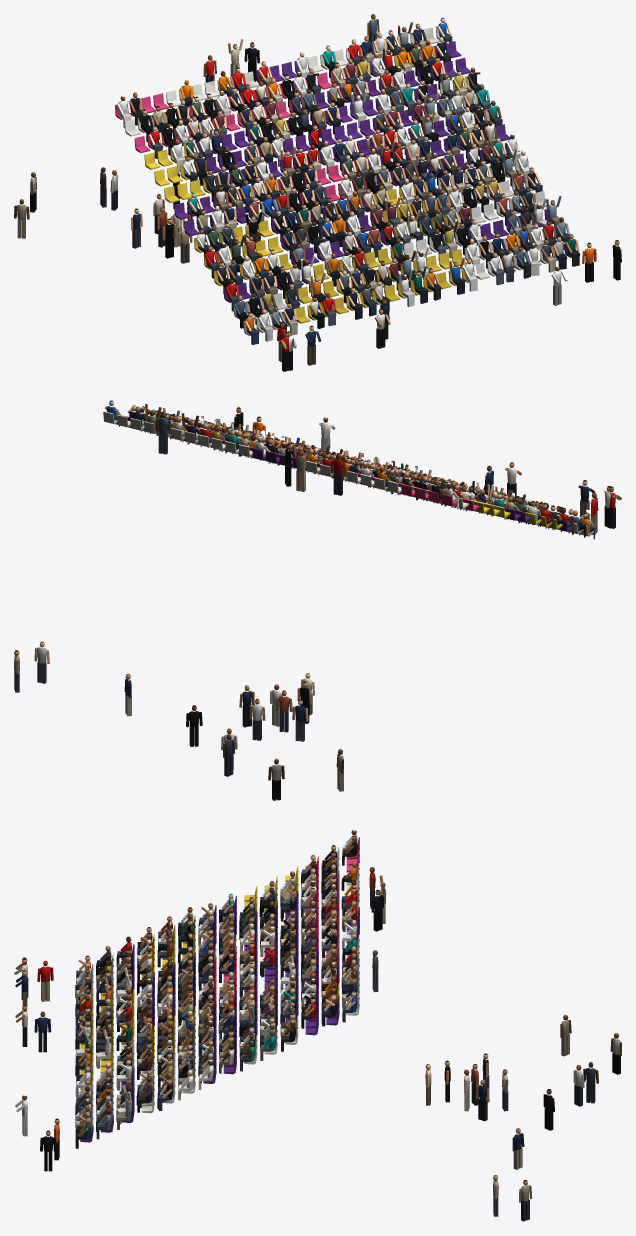
Rendered from stand_main_kit_4.glb.
3 views of the same model, one above another, from view 1: azimuth 30°, elevation 25°; view 2: azimuth 150°, elevation 25°; view 3: azimuth 270°, elevation 25° (orthographic). The views are drawn at different scales.
Parts seen in each view (by area): view 1: kit_4; view 2: kit_4; view 3: kit_4.
Boxes of the visible parts, x1,y1,x2,y2 form: kit_4: (14, 14, 621, 371); kit_4: (14, 400, 621, 800); kit_4: (14, 829, 621, 1221).
Size of the model in its own units: 16.67 by 10.3 by 23.73.
